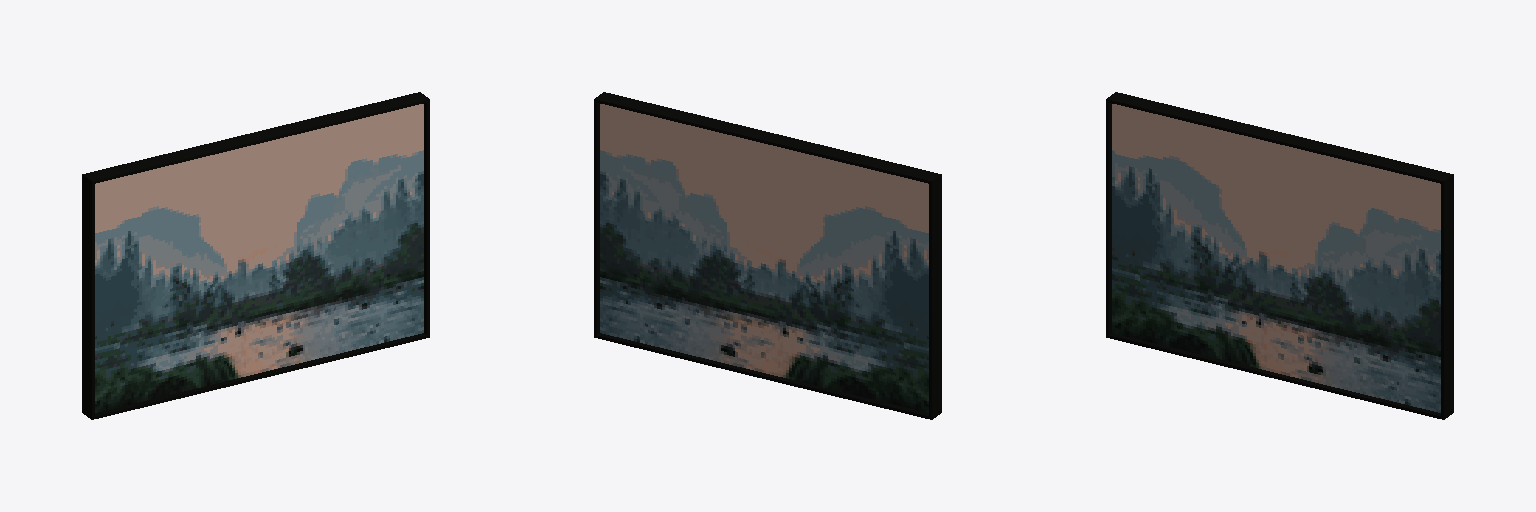
The picture shows the model from 3 angles: view 1: azimuth 30°, elevation 25°; view 2: azimuth 150°, elevation 25°; view 3: azimuth 330°, elevation 25°; orthographic projection.
Visible parts, largest first — view 1: object 1; view 2: object 1; view 3: object 1.
Boxes of the visible parts, x1=… form: object 1: x1=82, y1=92, x2=429, y2=419; object 1: x1=594, y1=92, x2=941, y2=419; object 1: x1=1106, y1=92, x2=1453, y2=419.
Size of the model in its own units: 12 by 8.1 by 0.6.
1 materials, 1 textured.